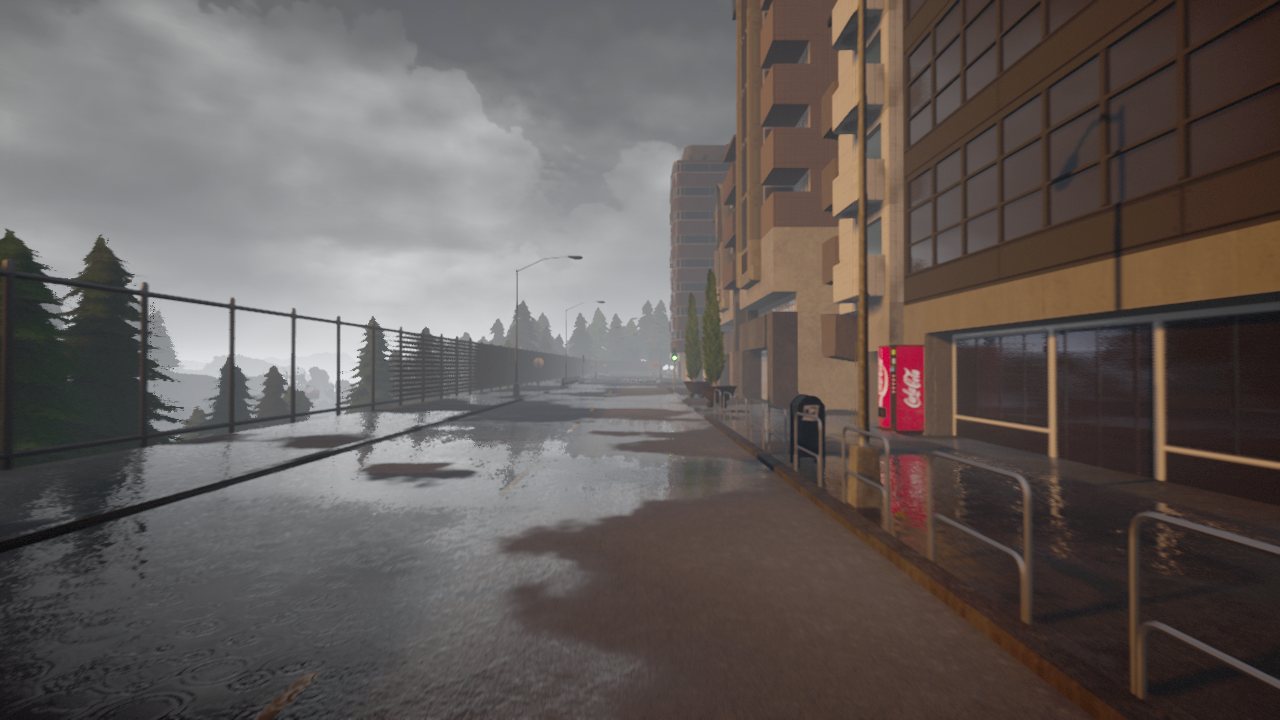green: (671, 346, 677, 362)
